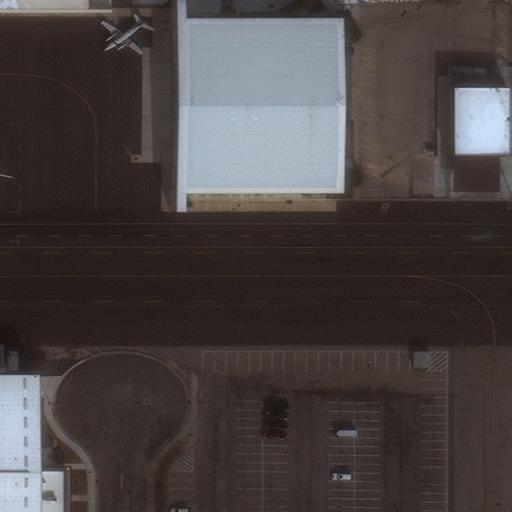Small Civil Transport: (99, 20, 147, 54)
